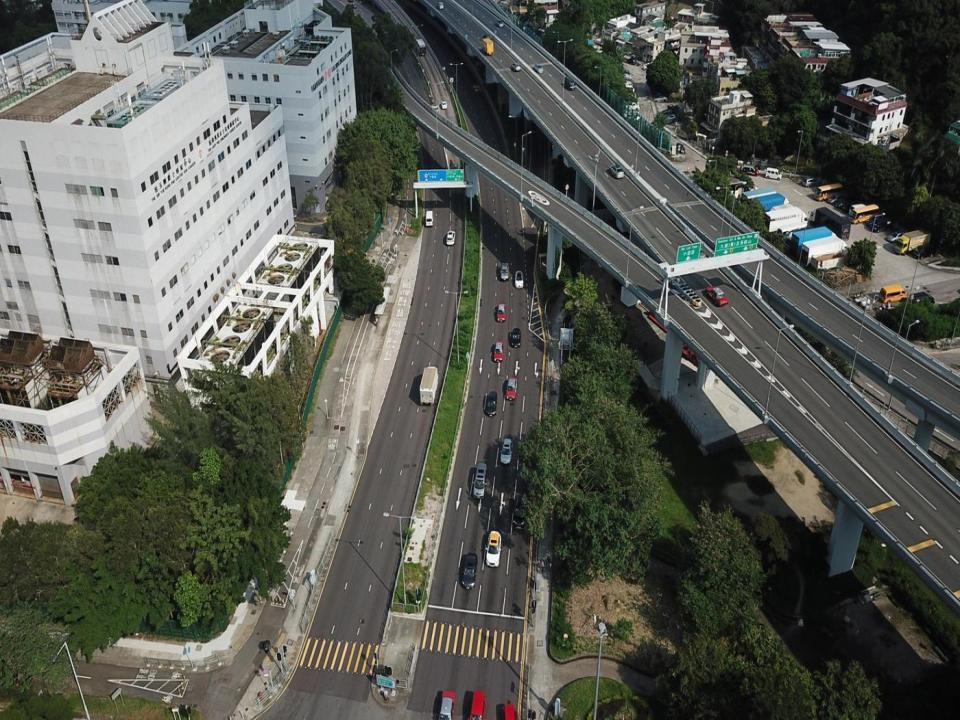bus: (774, 221, 808, 247), (782, 225, 816, 251), (848, 204, 880, 225), (814, 182, 844, 202)
car: (485, 530, 502, 567), (461, 553, 478, 589), (472, 462, 488, 499), (512, 494, 528, 529), (438, 690, 457, 719), (705, 285, 728, 307), (469, 691, 487, 719), (912, 242, 936, 260), (500, 438, 513, 465), (485, 391, 498, 417), (871, 219, 893, 233), (506, 376, 518, 401), (826, 191, 848, 204), (840, 198, 859, 213), (493, 340, 505, 363), (864, 214, 884, 227), (886, 230, 906, 243), (500, 703, 516, 719), (834, 195, 852, 209), (609, 164, 625, 179), (510, 327, 521, 348), (496, 302, 507, 322), (513, 270, 524, 290), (741, 164, 759, 176), (802, 176, 820, 188), (445, 229, 456, 246), (500, 262, 510, 280), (662, 112, 677, 124), (658, 108, 673, 119), (511, 61, 522, 72), (533, 63, 544, 74), (440, 100, 448, 109), (496, 18, 504, 27), (483, 33, 492, 40)
truck: (789, 226, 838, 260), (799, 236, 849, 267), (807, 207, 851, 241), (763, 206, 808, 238), (810, 245, 856, 273), (747, 193, 790, 219), (894, 226, 932, 255), (740, 187, 779, 212), (761, 202, 796, 225), (419, 366, 439, 406), (482, 36, 494, 55), (414, 38, 426, 56)
van: (879, 284, 908, 304), (848, 202, 868, 216), (764, 166, 782, 181), (564, 76, 576, 90), (425, 209, 434, 227), (436, 0, 444, 10)
